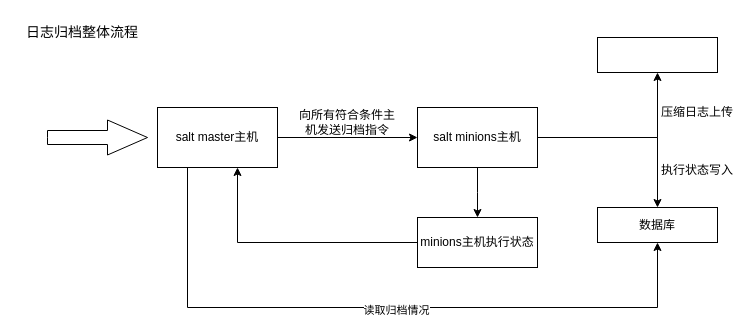
The diagram is 754 pixels wide and 333 high, and some of its shapes have lost their labels. Each missing label, with the centre of its shape:
oss: the point at 657,54
定时任务触发: the point at 97,137
